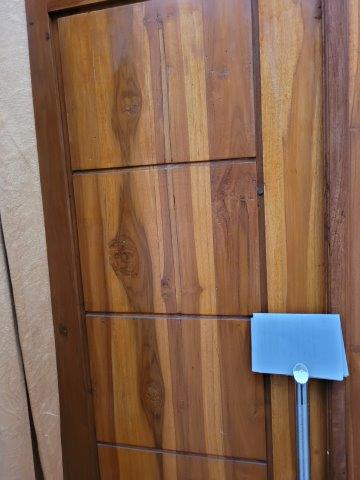kertas: (251, 314, 348, 377)
